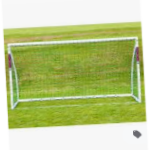goals: (6, 36, 143, 108)
